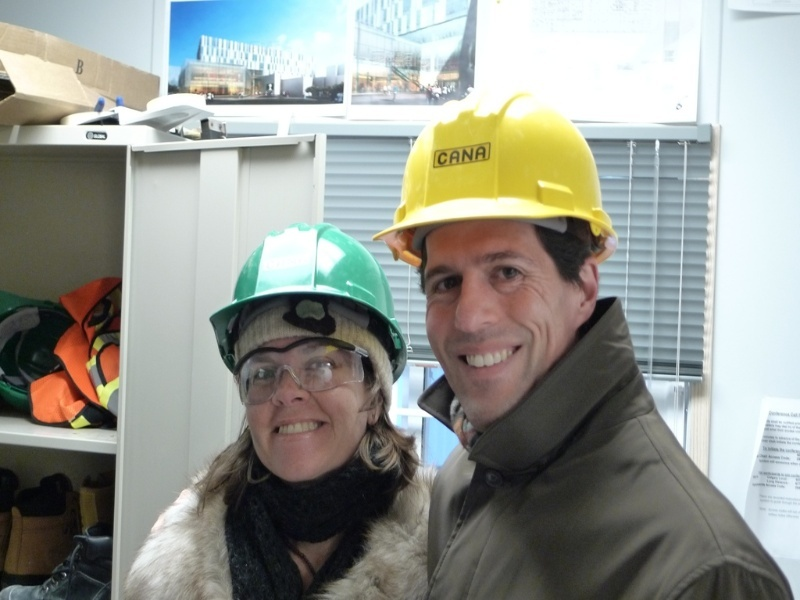Baret: (372, 90, 618, 268), (210, 224, 412, 383)
Gozluk: (228, 338, 377, 401)
